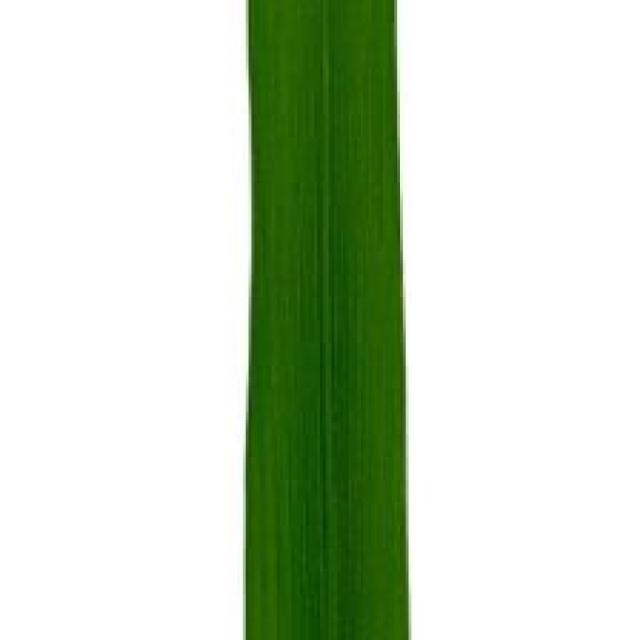Rice___Healthy_Rice_Plant: (244, 0, 414, 637)
